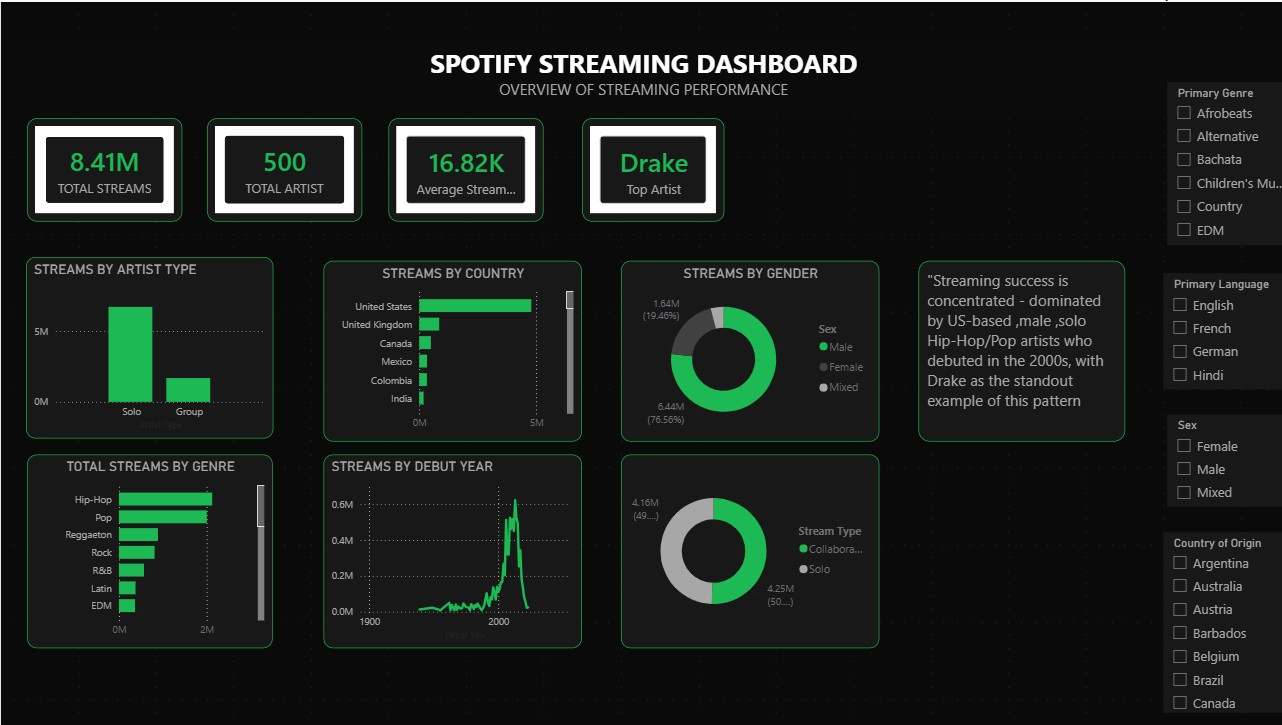

What the dashboard file says about the page in this screenshot:
{"tool":"powerbi","page":{"name":"Page 1","canvas":[1600,900],"ordinal":0},"visuals":[{"type":"textbox","box":[0,48,1600,96],"z":0},{"type":"cardVisual","fields":{"Data":["Sum(Spotify Streaming Performance D.Total Streams (in millions))"]},"box":[32,144,192,128],"z":1},{"type":"cardVisual","fields":{"Data":["Count(Spotify Streaming Performance D.Artist Name)"]},"box":[256,144,192,128],"z":2},{"type":"cardVisual","fields":{"Data":["Spotify Streaming Performance D.Average Streams per Artist"]},"box":[480,144,192,128],"z":3},{"type":"cardVisual","fields":{"Data":["Spotify Streaming Performance D.Top Artist"]},"box":[720,144,176,128],"z":4},{"type":"clusteredBarChart","title":"TOTAL STREAMS BY GENRE ","fields":{"Category":["Spotify Streaming Performance D.Primary Genre"],"Y":["Sum(Spotify Streaming Performance D.Total Streams (in millions))"]},"box":[32,560,304,240],"z":5},{"type":"clusteredBarChart","title":"STREAMS BY COUNTRY ","fields":{"Category":["Spotify Streaming Performance D.Country of Origin"],"Y":["Sum(Spotify Streaming Performance D.Total Streams (in millions))"]},"box":[400,320,320,224],"z":6},{"type":"donutChart","title":"STREAMS BY GENDER","fields":{"Category":["Spotify Streaming Performance D.Sex"],"Y":["Sum(Spotify Streaming Performance D.Total Streams (in millions))"]},"box":[768,320,320,224],"z":7},{"type":"donutChart","title":"STREAMS BY COUNTRY ","fields":{"Category":["Stream Type.Stream Type"],"Y":["Stream Type.Stream Type Value"]},"box":[768,560,320,240],"z":8},{"type":"columnChart","title":" STREAMS BY  ARTIST TYPE","fields":{"Category":["Spotify Streaming Performance D. Artist Type"],"Y":["Sum(Spotify Streaming Performance D.Total Streams (in millions))"]},"box":[31.7,315.2,306.1,224.7],"z":9},{"type":"lineChart","title":" STREAMS BY DEBUT YEAR","fields":{"Y":["Sum(Spotify Streaming Performance D.Total Streams (in millions))"],"Category":["Spotify Streaming Performance D.Debut Year"]},"box":[400,560,320,240],"z":10},{"type":"slicer","title":"TOTAL STREAMS BY GENRE ","fields":{"Values":["Spotify Streaming Performance D.Country of Origin"]},"box":[1440,656,160,224],"z":11},{"type":"slicer","title":"TOTAL STREAMS BY GENRE ","fields":{"Values":["Spotify Streaming Performance D.Primary Language"]},"box":[1440,336,160,144],"z":12},{"type":"slicer","title":"TOTAL STREAMS BY GENRE ","fields":{"Values":["Spotify Streaming Performance D.Primary Genre"]},"box":[1444.7,99.5,155.3,202.1],"z":13},{"type":"slicer","title":"TOTAL STREAMS BY GENRE ","fields":{"Values":["Spotify Streaming Performance D.Sex"]},"box":[1444.7,511.2,155.3,114.6],"z":14},{"type":"textbox","box":[1136,320,256,224],"z":15}]}

Visuals, with their boxes in screenshot pixels (x1, y1, x2, y2), scaled from the page's 1600x900 canvas onto the 1282x725 screenshot:
textbox: Rect(0, 39, 1281, 116)
cardVisual - Sum(Spotify Streaming Performance D.Total Streams (in millions)): Rect(26, 116, 179, 219)
cardVisual - Count(Spotify Streaming Performance D.Artist Name): Rect(205, 116, 359, 219)
cardVisual - Spotify Streaming Performance D.Average Streams per Artist: Rect(385, 116, 538, 219)
cardVisual - Spotify Streaming Performance D.Top Artist: Rect(577, 116, 718, 219)
"TOTAL STREAMS BY GENRE " clusteredBarChart: Rect(26, 451, 269, 644)
"STREAMS BY COUNTRY " clusteredBarChart: Rect(320, 258, 577, 438)
"STREAMS BY GENDER" donutChart: Rect(615, 258, 872, 438)
"STREAMS BY COUNTRY " donutChart: Rect(615, 451, 872, 644)
" STREAMS BY  ARTIST TYPE" columnChart: Rect(25, 254, 271, 435)
" STREAMS BY DEBUT YEAR" lineChart: Rect(320, 451, 577, 644)
"TOTAL STREAMS BY GENRE " slicer: Rect(1154, 528, 1281, 709)
"TOTAL STREAMS BY GENRE " slicer: Rect(1154, 271, 1281, 387)
"TOTAL STREAMS BY GENRE " slicer: Rect(1158, 80, 1281, 243)
"TOTAL STREAMS BY GENRE " slicer: Rect(1158, 412, 1281, 504)
textbox: Rect(910, 258, 1115, 438)
